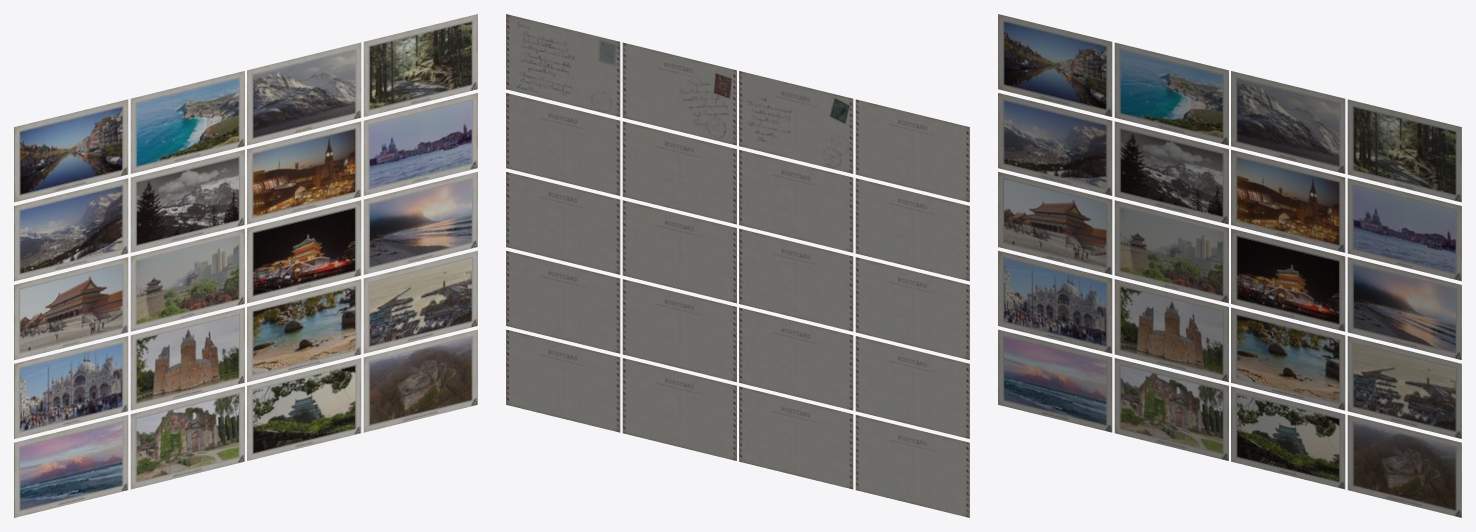
The model's file is postcard_set_01.glb.
The picture shows the model from 3 angles, left to right: view 1: azimuth 30°, elevation 25°; view 2: azimuth 150°, elevation 25°; view 3: azimuth 330°, elevation 25°; orthographic projection.
Visible parts, largest first — view 1: postcard_01, postcard_03, postcard_05, postcard_16, postcard_18, postcard_20, postcard_07, postcard_10, postcard_11, postcard_14, postcard_08, postcard_09 (+8 smaller); view 2: postcard_01, postcard_03, postcard_05, postcard_16, postcard_18, postcard_20, postcard_07, postcard_10, postcard_11, postcard_14, postcard_08, postcard_09 (+8 smaller); view 3: postcard_02, postcard_04, postcard_08, postcard_13, postcard_17, postcard_19, postcard_06, postcard_10, postcard_11, postcard_15, postcard_05, postcard_09 (+8 smaller).
Part boxes in pixels (left/top/right/bottom): postcard_01: left=14, top=99, right=128, bottom=202; postcard_03: left=247, top=42, right=361, bottom=145; postcard_05: left=14, top=178, right=128, bottom=281; postcard_16: left=363, top=250, right=477, bottom=353; postcard_18: left=130, top=386, right=244, bottom=489; postcard_20: left=363, top=329, right=477, bottom=432; postcard_07: left=247, top=121, right=361, bottom=224; postcard_10: left=130, top=228, right=244, bottom=331; postcard_11: left=247, top=200, right=361, bottom=303; postcard_14: left=130, top=307, right=244, bottom=410; postcard_08: left=363, top=93, right=477, bottom=195; postcard_09: left=14, top=257, right=128, bottom=359; postcard_01: left=855, top=99, right=969, bottom=202; postcard_03: left=622, top=42, right=736, bottom=145; postcard_05: left=855, top=178, right=969, bottom=281; postcard_16: left=506, top=250, right=620, bottom=353; postcard_18: left=739, top=386, right=853, bottom=489; postcard_20: left=506, top=329, right=620, bottom=432; postcard_07: left=622, top=121, right=736, bottom=224; postcard_10: left=739, top=228, right=853, bottom=331; postcard_11: left=622, top=200, right=736, bottom=303; postcard_14: left=739, top=307, right=853, bottom=410; postcard_08: left=506, top=93, right=620, bottom=195; postcard_09: left=855, top=257, right=969, bottom=359; postcard_02: left=1114, top=42, right=1228, bottom=145; postcard_04: left=1347, top=99, right=1461, bottom=202; postcard_08: left=1347, top=178, right=1461, bottom=281; postcard_13: left=998, top=250, right=1112, bottom=353; postcard_17: left=998, top=329, right=1112, bottom=432; postcard_19: left=1231, top=386, right=1345, bottom=489; postcard_06: left=1114, top=121, right=1228, bottom=224; postcard_10: left=1114, top=200, right=1228, bottom=303; postcard_11: left=1231, top=228, right=1345, bottom=331; postcard_15: left=1231, top=307, right=1345, bottom=410; postcard_05: left=998, top=93, right=1112, bottom=195; postcard_09: left=998, top=172, right=1112, bottom=274.
Size of the model in its own units: 0.6767 by 0.545 by 0.000136.
Materials: 1 (1 with a texture image).
